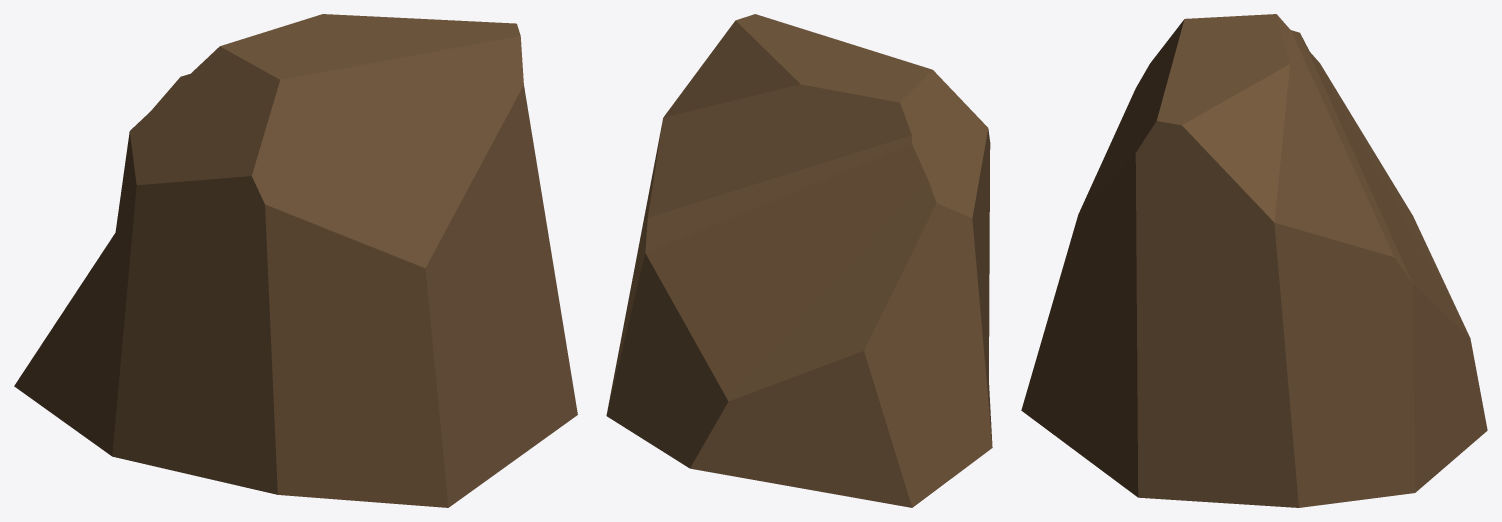
The model's file is stone.fbx.
The picture shows the model from 3 angles, left to right: view 1: azimuth 30°, elevation 25°; view 2: azimuth 150°, elevation 25°; view 3: azimuth 270°, elevation 25°; orthographic projection. The views are drawn at different scales.
Parts seen in each view (by area): view 1: stone; view 2: stone; view 3: stone.
Boxes of the visible parts, bbox=[...] form: stone: bbox=[14, 14, 577, 507]; stone: bbox=[606, 14, 992, 507]; stone: bbox=[1021, 14, 1487, 507].
Size of the model in its own units: 227 by 200 by 238.
